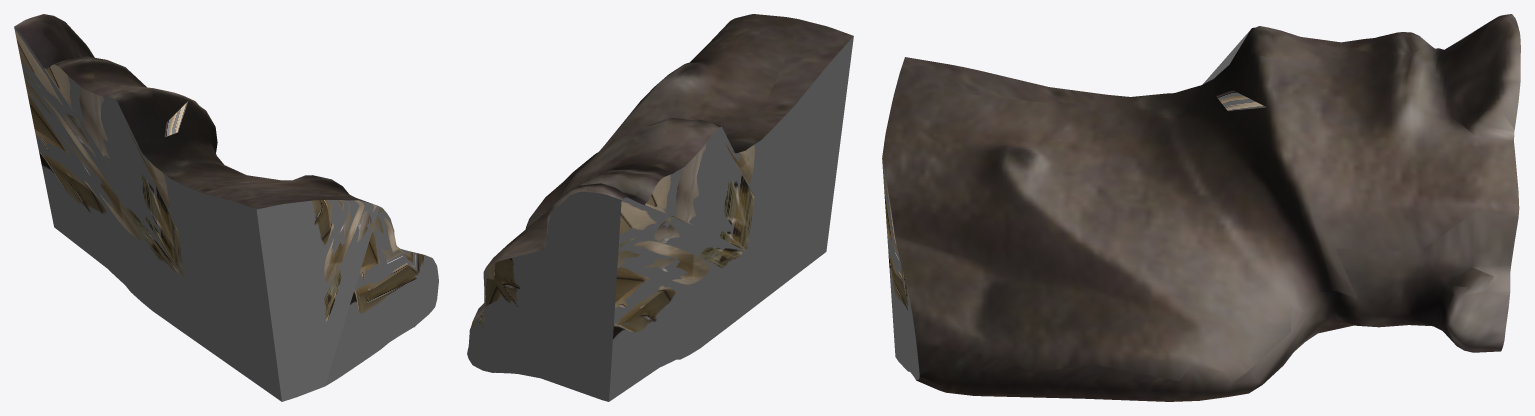
The model's file is fragment1.obj.
The picture shows the model from 3 angles, left to right: view 1: azimuth 30°, elevation 25°; view 2: azimuth 150°, elevation 25°; view 3: azimuth 270°, elevation 25°; orthographic projection. The views are drawn at different scales.
Parts seen in each view (by area): view 1: sculpt_cell.000; view 2: sculpt_cell.000; view 3: sculpt_cell.000.
Part boxes in pixels (x1,y1,x2,y2): sculpt_cell.000: [14, 14, 438, 401]; sculpt_cell.000: [467, 14, 853, 401]; sculpt_cell.000: [882, 14, 1520, 401].
Size of the model in its own units: 4.44 by 4.59 by 8.7.
Materials: 1 (1 with a texture image).
